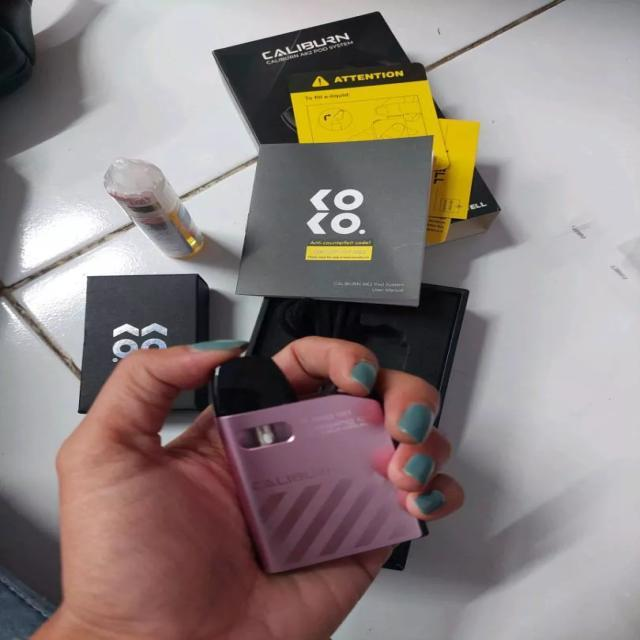Hazard: (208, 352, 430, 574)
